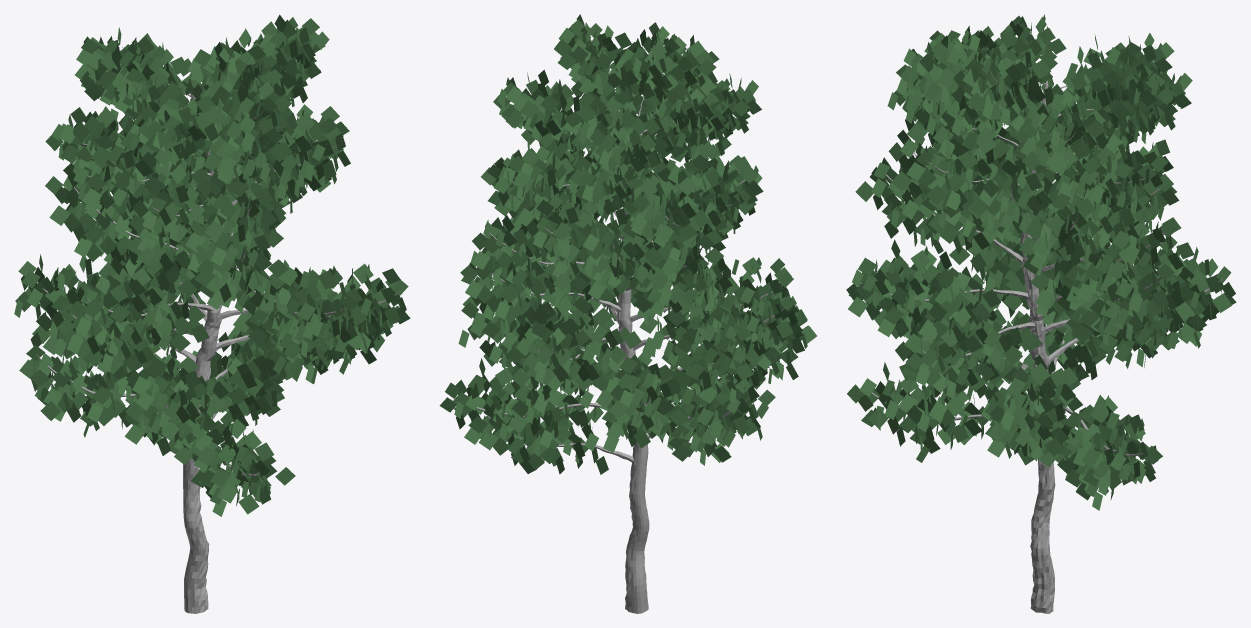
The model's file is treeComplicated.fbx.
The picture shows the model from 3 angles, left to right: view 1: azimuth 30°, elevation 25°; view 2: azimuth 150°, elevation 25°; view 3: azimuth 270°, elevation 25°; orthographic projection. The views are drawn at different scales.
Visible parts, largest first — view 1: XFROG_CL12a:leaf, XFROG_CL12a:trunk, XFROG_CL12a:b1; view 2: XFROG_CL12a:leaf, XFROG_CL12a:trunk, XFROG_CL12a:b1; view 3: XFROG_CL12a:leaf, XFROG_CL12a:trunk, XFROG_CL12a:b1.
Boxes of the visible parts, bbox=[...] form: XFROG_CL12a:leaf: bbox=[14, 14, 410, 516]; XFROG_CL12a:trunk: bbox=[183, 93, 221, 613]; XFROG_CL12a:b1: bbox=[34, 68, 400, 476]; XFROG_CL12a:leaf: bbox=[439, 14, 816, 474]; XFROG_CL12a:trunk: bbox=[617, 115, 649, 613]; XFROG_CL12a:b1: bbox=[454, 53, 786, 462]; XFROG_CL12a:leaf: bbox=[846, 14, 1236, 510]; XFROG_CL12a:trunk: bbox=[1021, 80, 1055, 613]; XFROG_CL12a:b1: bbox=[860, 58, 1222, 457].
Bounding box in the file's own units: 12 × 19.67 × 11.7.
